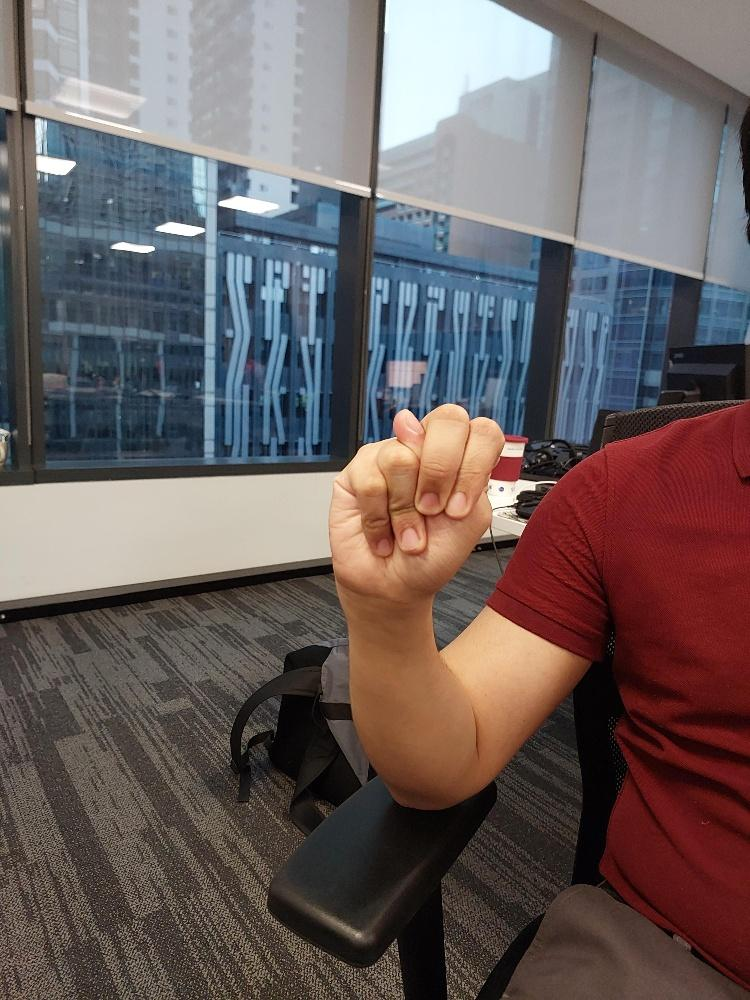n: (324, 398, 506, 610)
